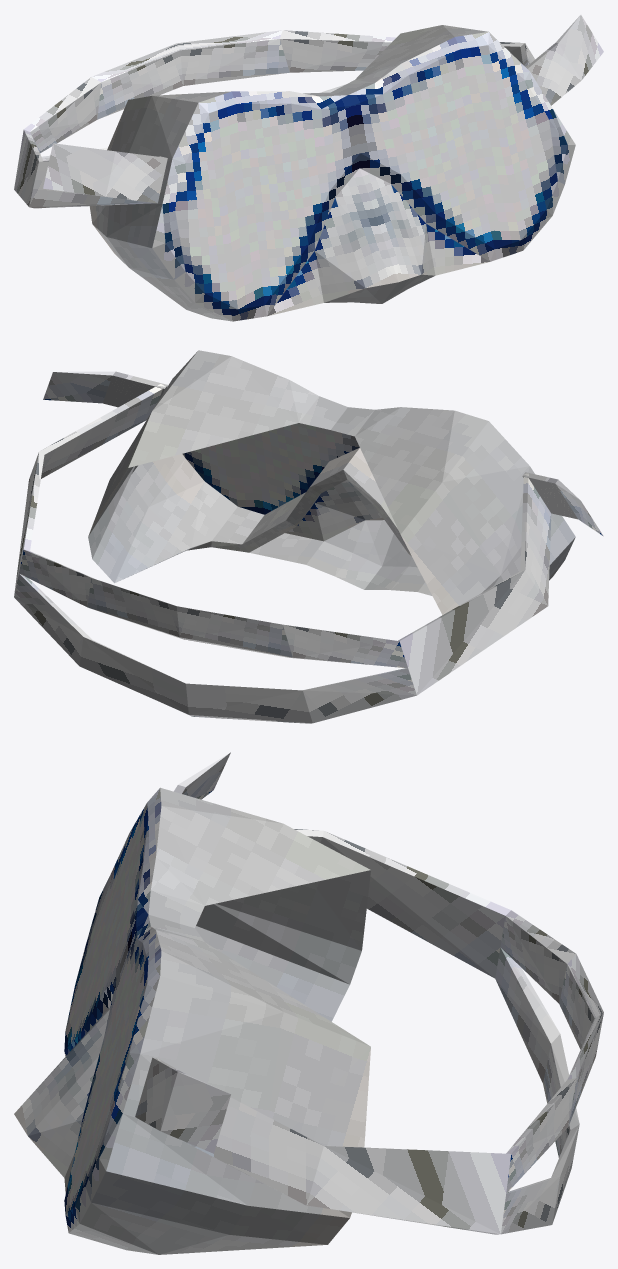
File: DivingGoggles01.obj
3 renders of one model, top to bottom at view 1: azimuth 30°, elevation 25°; view 2: azimuth 150°, elevation 25°; view 3: azimuth 270°, elevation 25°, orthographic. The views are drawn at different scales.
Visible parts, largest first — view 1: DivingGoggles01; view 2: DivingGoggles01; view 3: DivingGoggles01.
Boxes of the visible parts, box(x1,y1,x2,y2) form: DivingGoggles01: box(14, 15, 603, 321); DivingGoggles01: box(14, 350, 603, 723); DivingGoggles01: box(14, 752, 603, 1254).
Size of the model in its own units: 0.5026 by 0.1909 by 0.3445.
